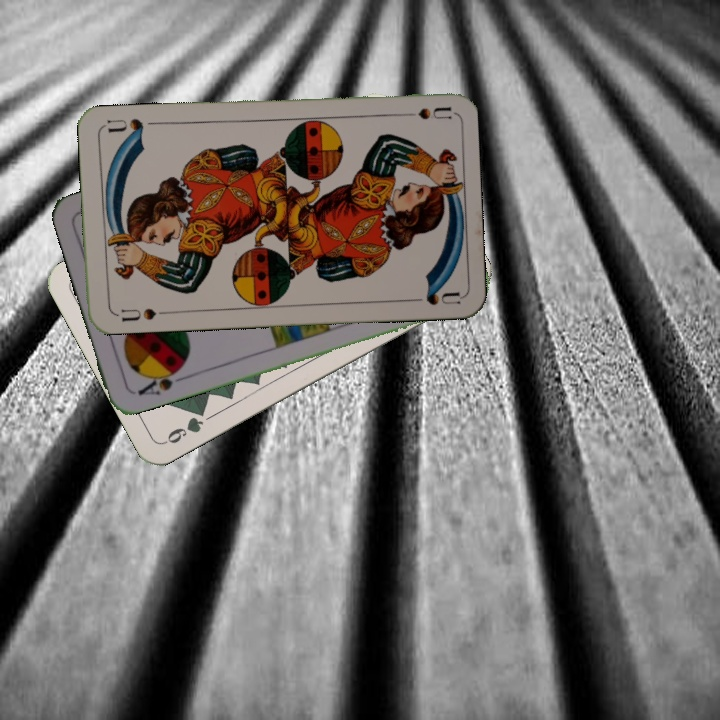G9: (160, 403, 209, 447)
SA: (133, 362, 189, 398)
SU: (392, 102, 452, 122), (111, 304, 170, 324)
